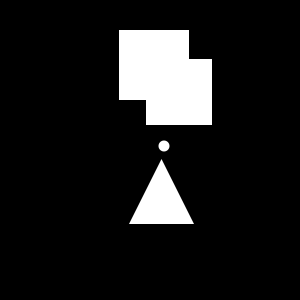circle: (119, 30, 189, 100), (146, 59, 212, 125)
rectangle: (158, 140, 169, 152)
triangle: (129, 159, 194, 224)
